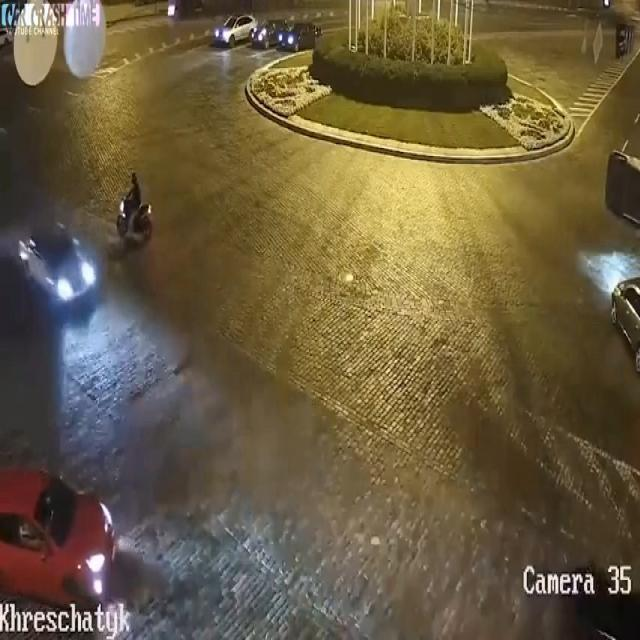Accident: (605, 116, 640, 280)
